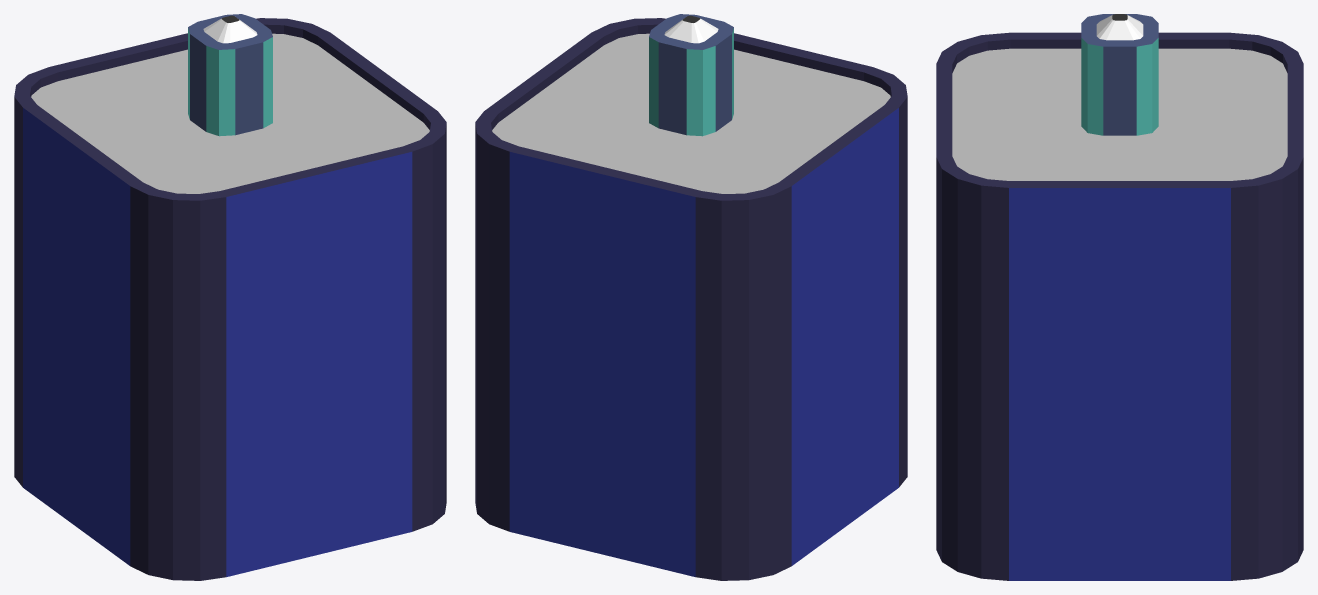
Rendered from Res01_Tin.fbx.
3 renders of one model, left to right at view 1: azimuth 30°, elevation 25°; view 2: azimuth 150°, elevation 25°; view 3: azimuth 270°, elevation 25°, orthographic. The views are drawn at different scales.
Parts seen in each view (by area): view 1: Res01_Tin; view 2: Res01_Tin; view 3: Res01_Tin.
Boxes of the visible parts, left/top/right/bottom form: Res01_Tin: left=14, top=14, right=446, bottom=580; Res01_Tin: left=475, top=14, right=907, bottom=580; Res01_Tin: left=936, top=14, right=1303, bottom=580.
Bounding box in the file's own units: 37.57 × 54.89 × 37.57.
